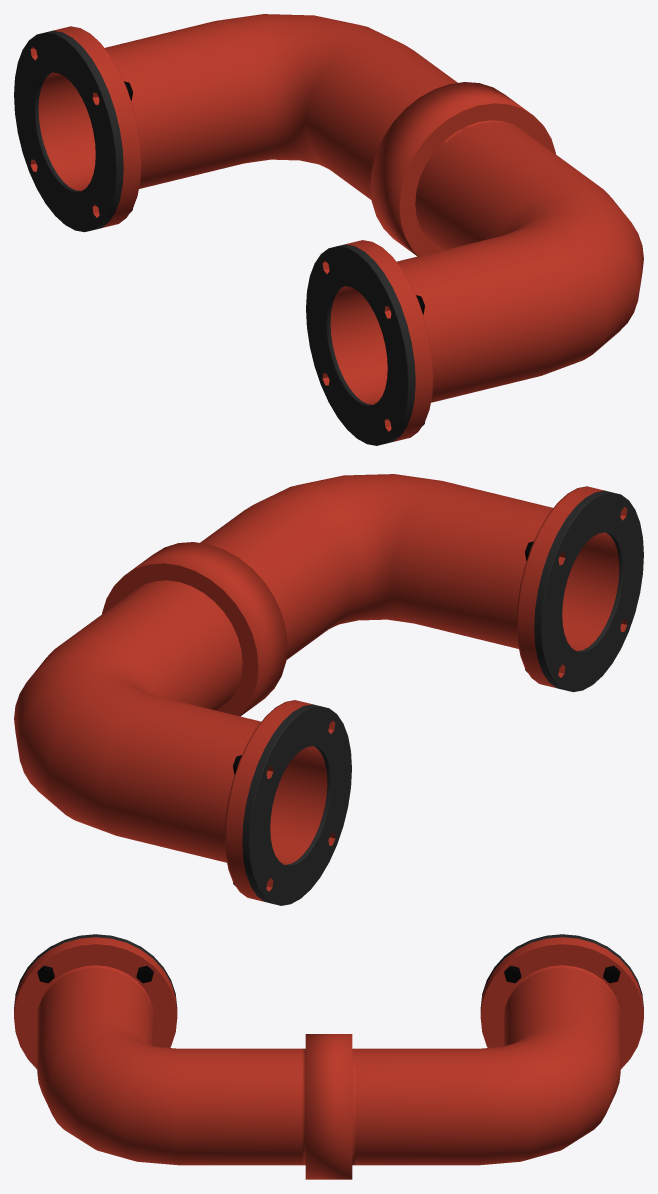
Rendered from AroudWallVarient.fbx.
3 renders of one model, top to bottom at view 1: azimuth 30°, elevation 25°; view 2: azimuth 150°, elevation 25°; view 3: azimuth 270°, elevation 25°, orthographic. The views are drawn at different scales.
Visible parts, largest first — view 1: Rec_Pipe_Joint; view 2: Rec_Pipe_Joint; view 3: Rec_Pipe_Joint.
Boxes of the visible parts, x1=… form: Rec_Pipe_Joint: x1=14, y1=14, x2=643, y2=445; Rec_Pipe_Joint: x1=14, y1=474, x2=643, y2=905; Rec_Pipe_Joint: x1=14, y1=934, x2=643, y2=1179.
Size of the model in its own units: 26.25 by 14 by 54.
